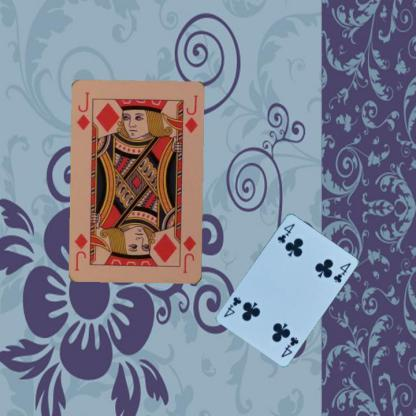4c: (278, 334, 300, 358), (274, 221, 296, 244)
Jd: (180, 233, 198, 275), (74, 90, 92, 132)
